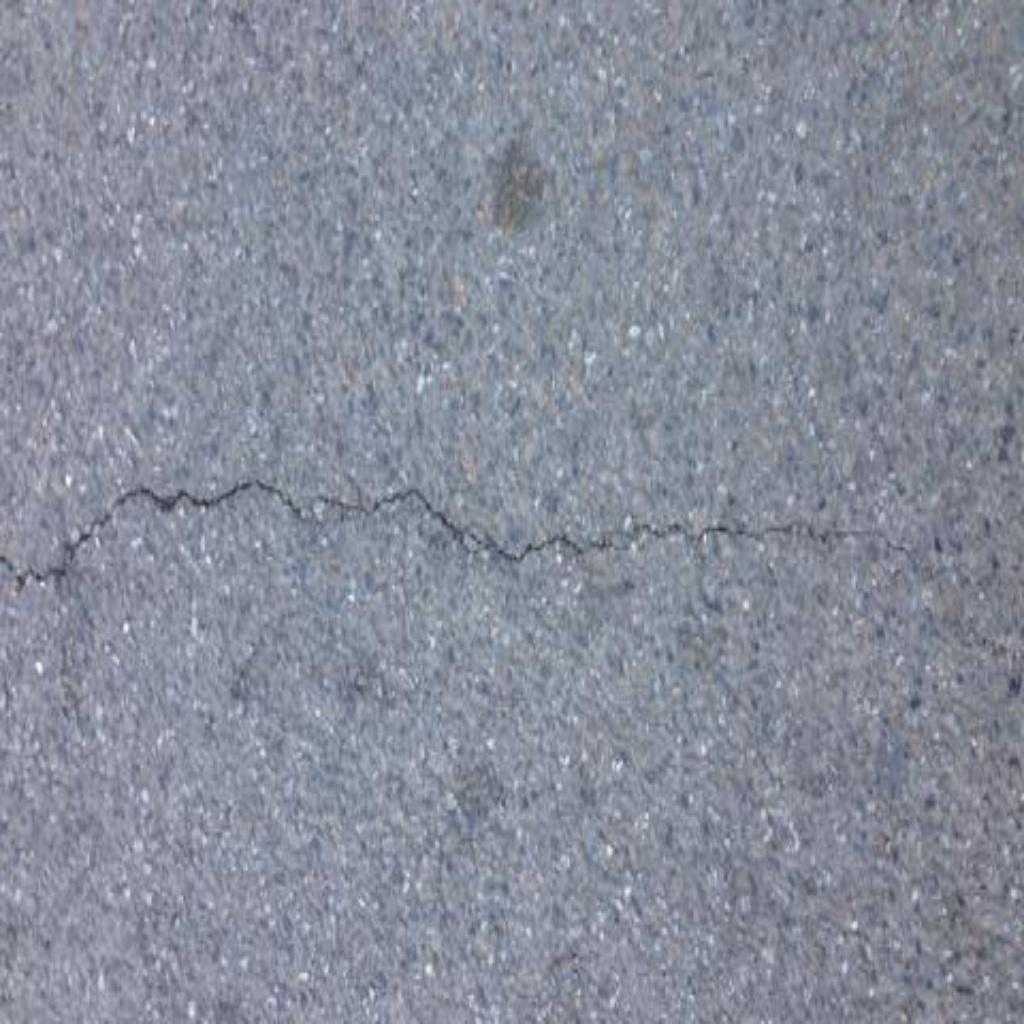Crack: (1, 479, 915, 593)
